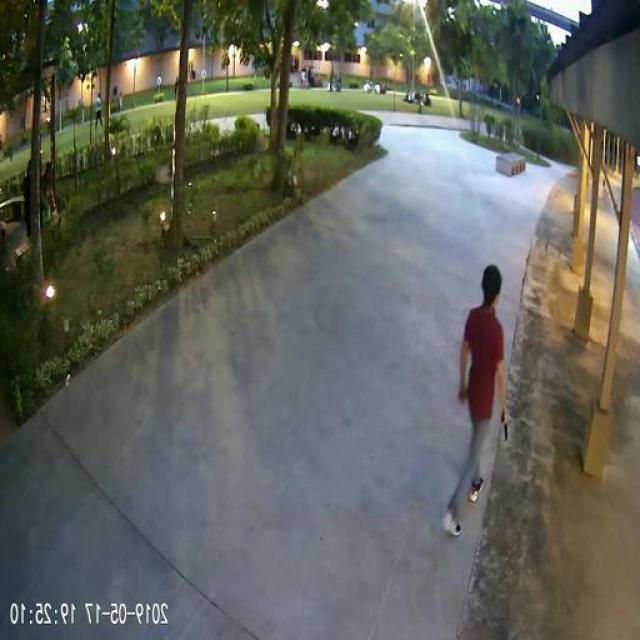Gun: (502, 406, 510, 440)
